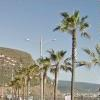Palm tree: (52, 10, 88, 100)
